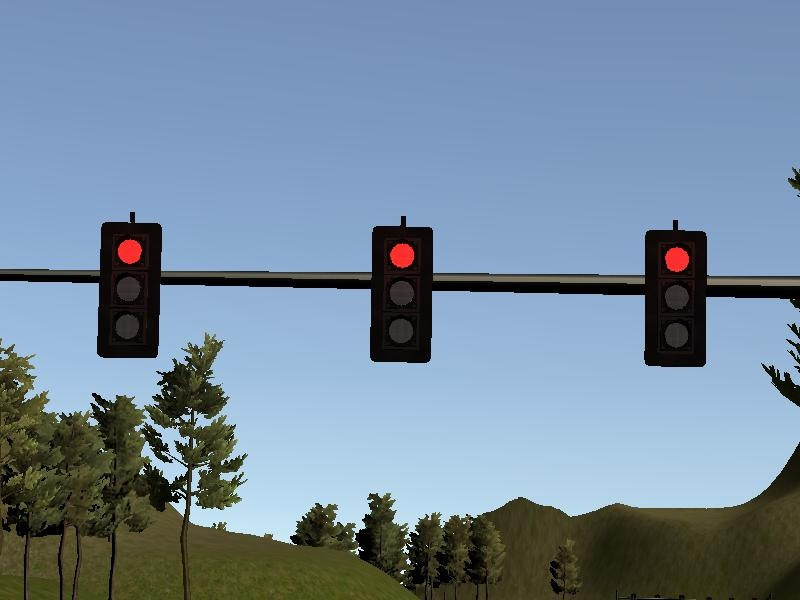red: (371, 227, 433, 364), (645, 232, 706, 368), (100, 224, 160, 359)
